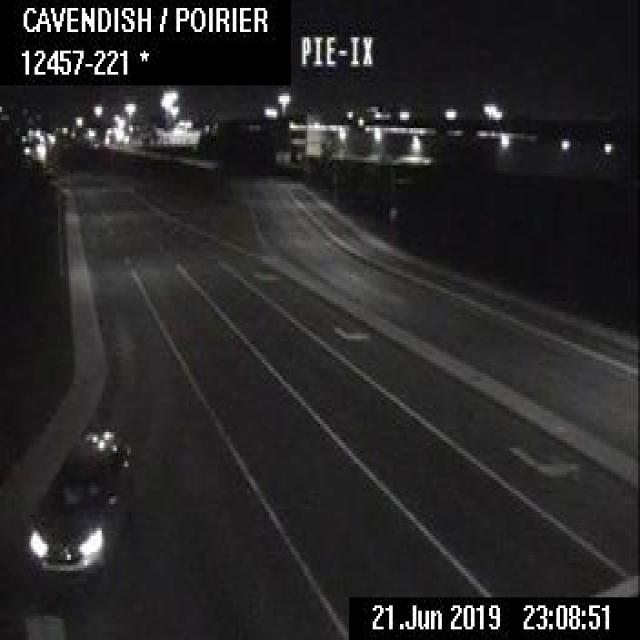vehicle: (22, 421, 129, 576)
